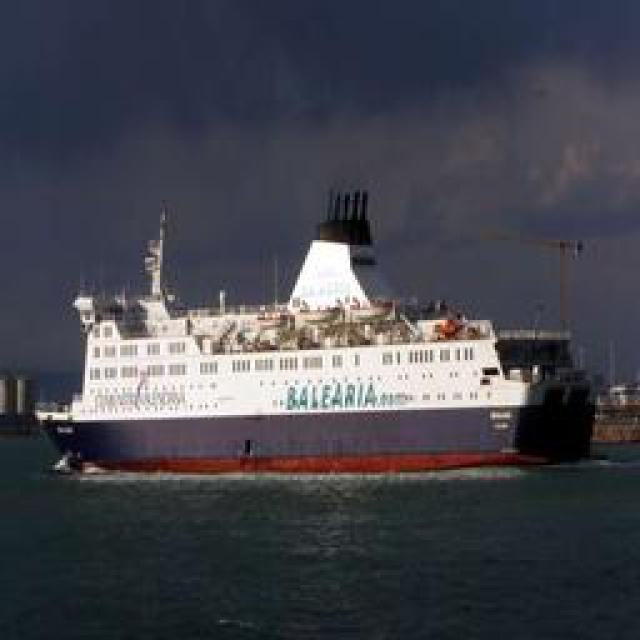Ship: (37, 240, 565, 483)
